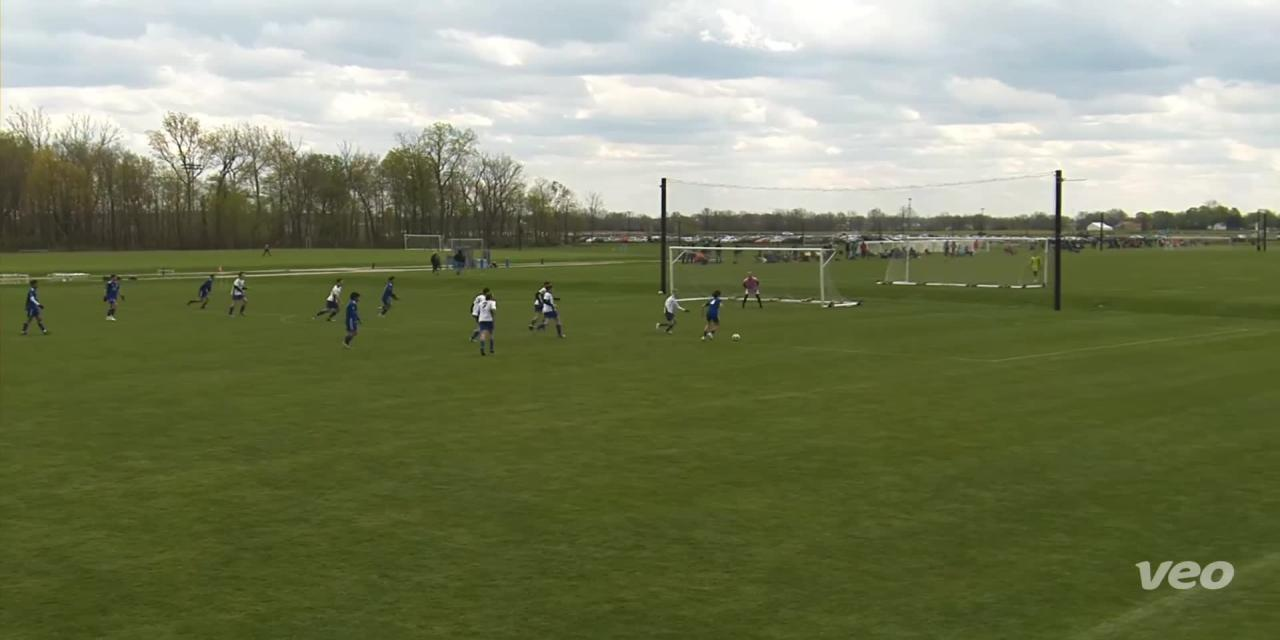goal: (659, 237, 869, 314)
sports ball: (727, 327, 749, 344)
